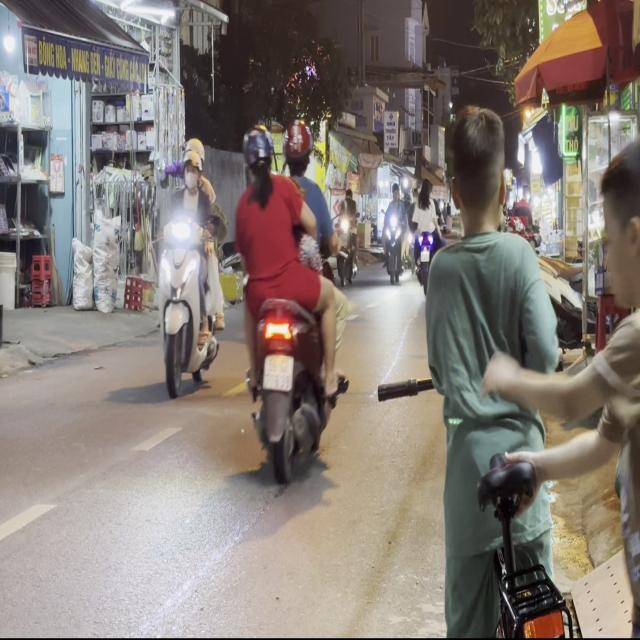helmet: (241, 125, 274, 184), (282, 120, 312, 174), (182, 137, 204, 186)
licenseplate: (232, 119, 350, 483), (152, 134, 225, 398)
nohelmet: (262, 354, 292, 389)
